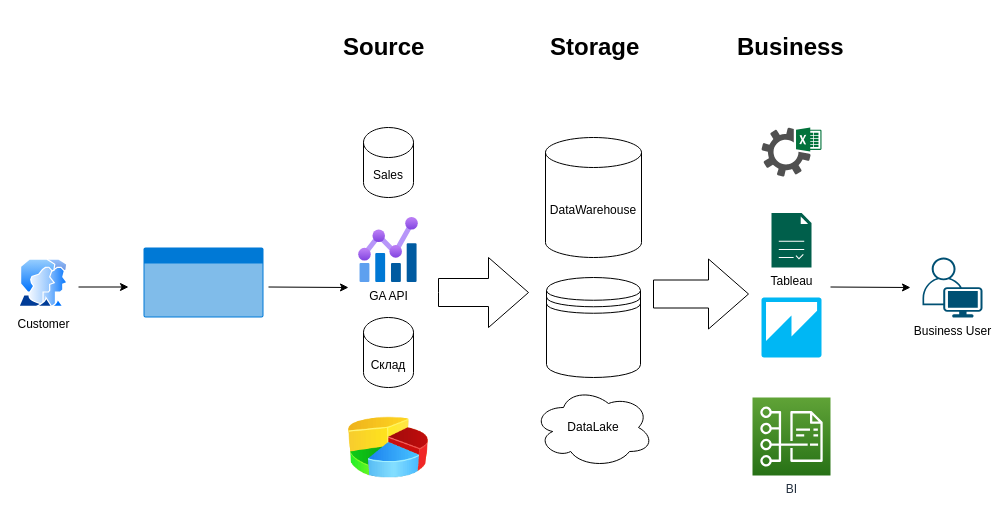
The diagram is 1008 pixels wide and 525 high, and some of its shapes have lost their labels. Here are the shapes that lost their labels. From the top down, the box of each, then its label:
(761, 127, 821, 176): Excel, PowerBI, etc.
(143, 247, 263, 317): www
(546, 276, 640, 378): DataPlatform
(760, 296, 822, 358): QlikView
(348, 407, 428, 487): CRM
